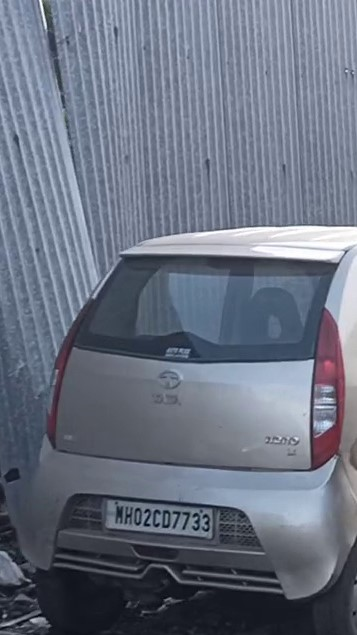MH02CD7733: (105, 498, 216, 538)
